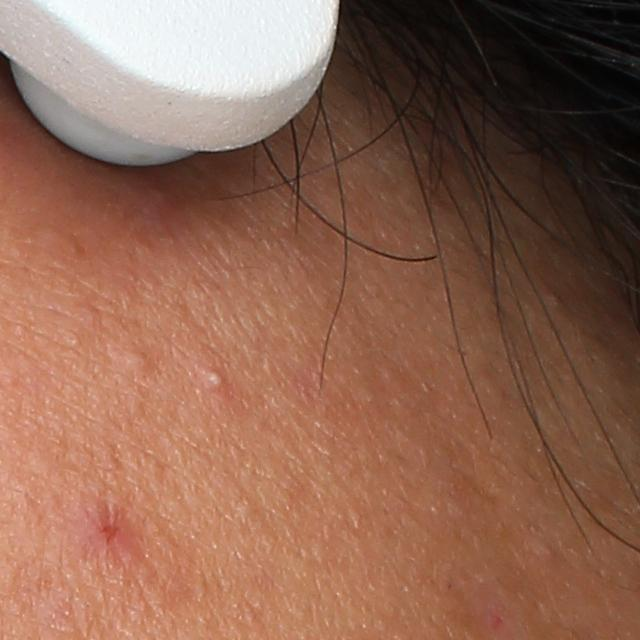comedo: (113, 347, 157, 383), (530, 538, 561, 567)
pustule: (199, 365, 234, 397)
